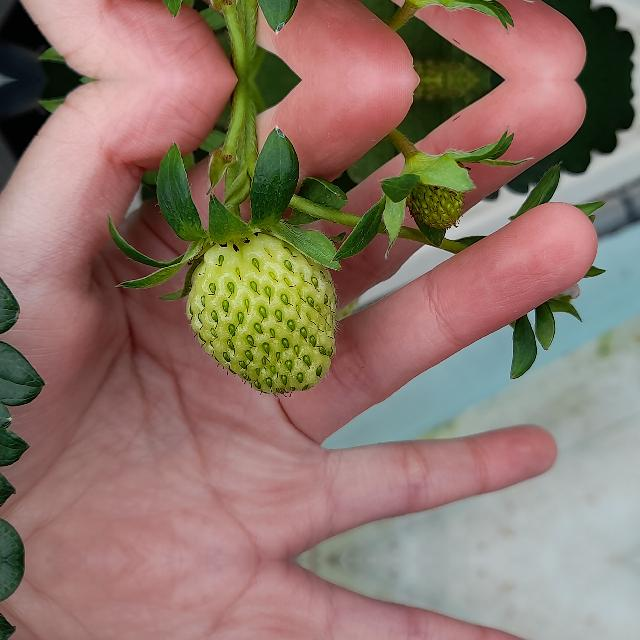Health_25: (185, 232, 337, 394), (402, 154, 464, 232)
